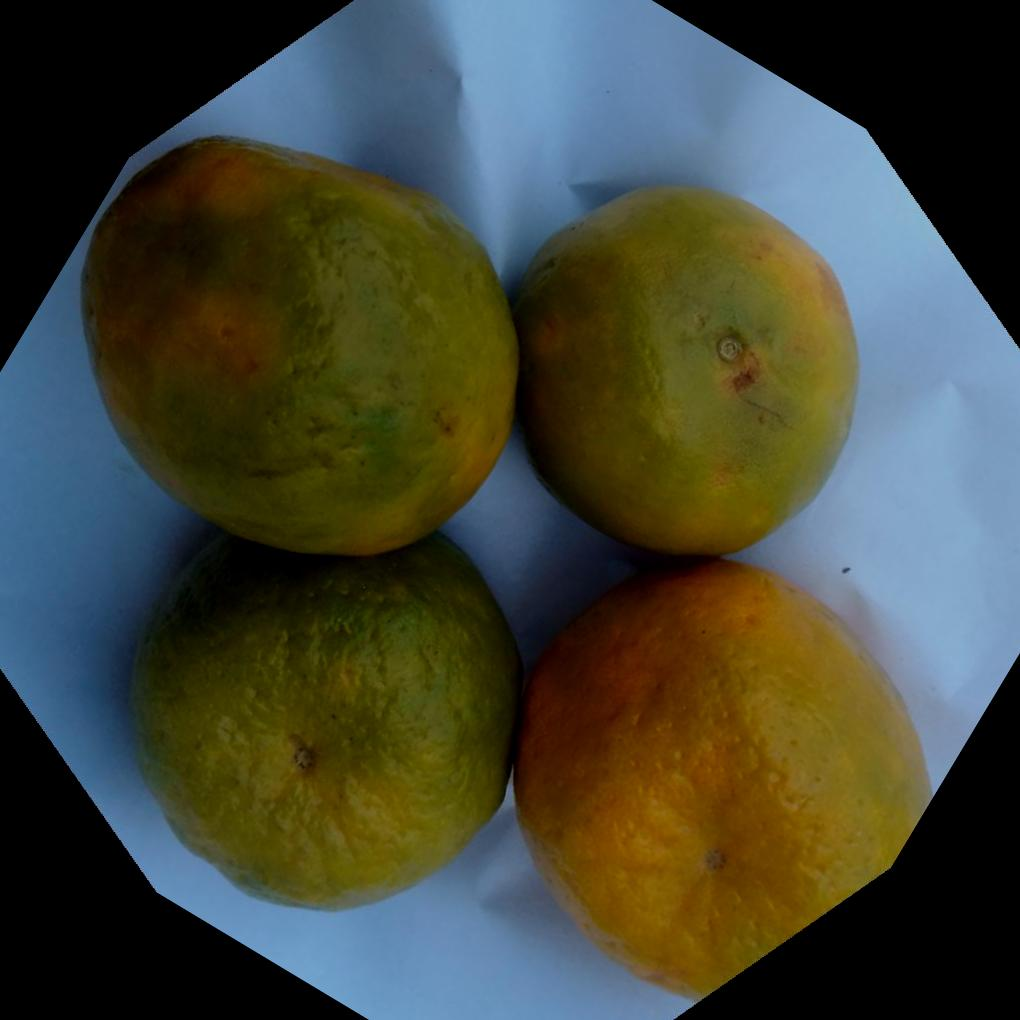FreshGuava: (74, 132, 931, 999)
